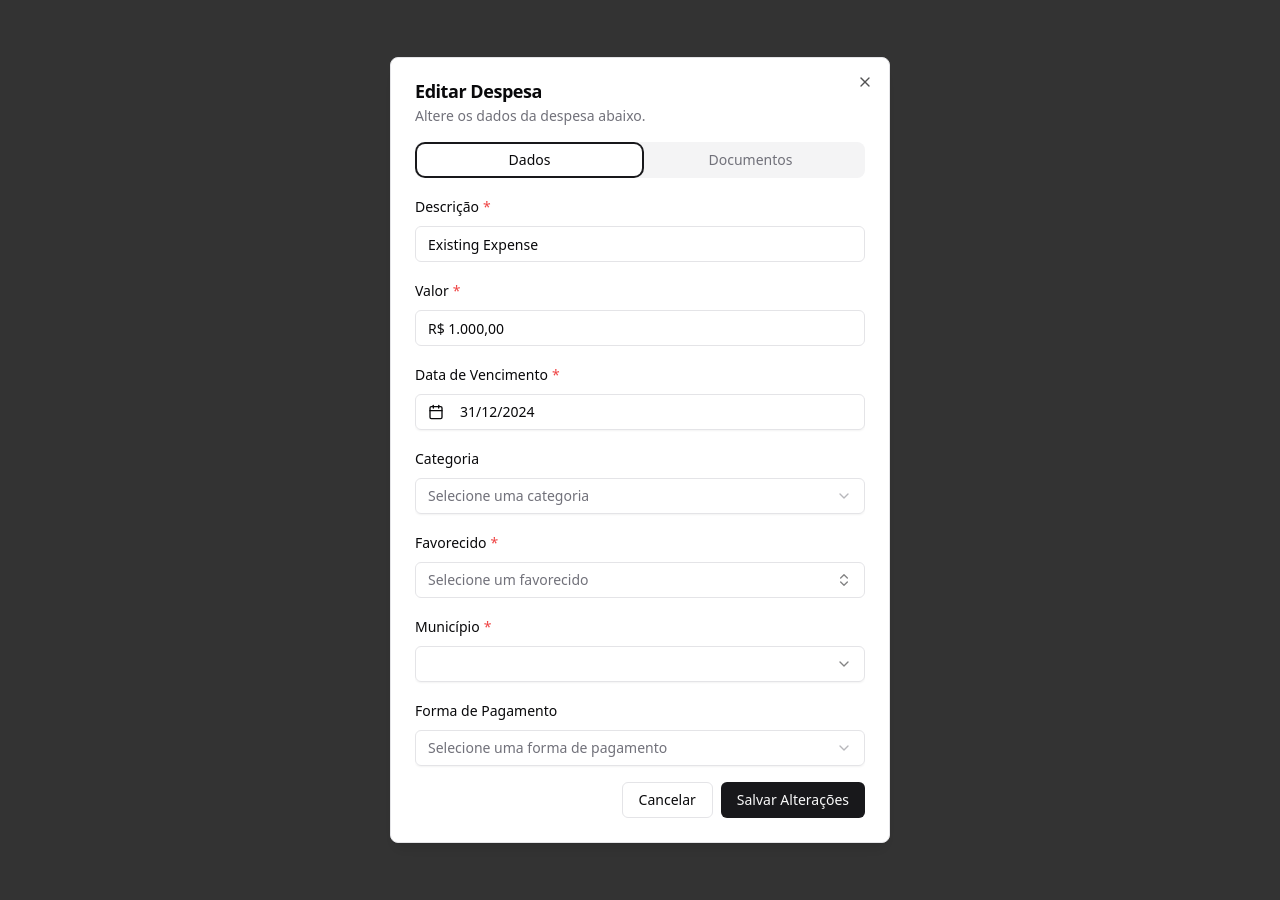
Scenario: Expense File Upload Integration › Existing file URLs in edit mode › should show both existing file previews when editing expense
Expected: the heading "Editar Despesa" is shown, x1=415 y1=79 x2=542 y2=103
Click the tab "Documentos".
click(750, 160)  # box x1=640 y1=146 x2=861 y2=174
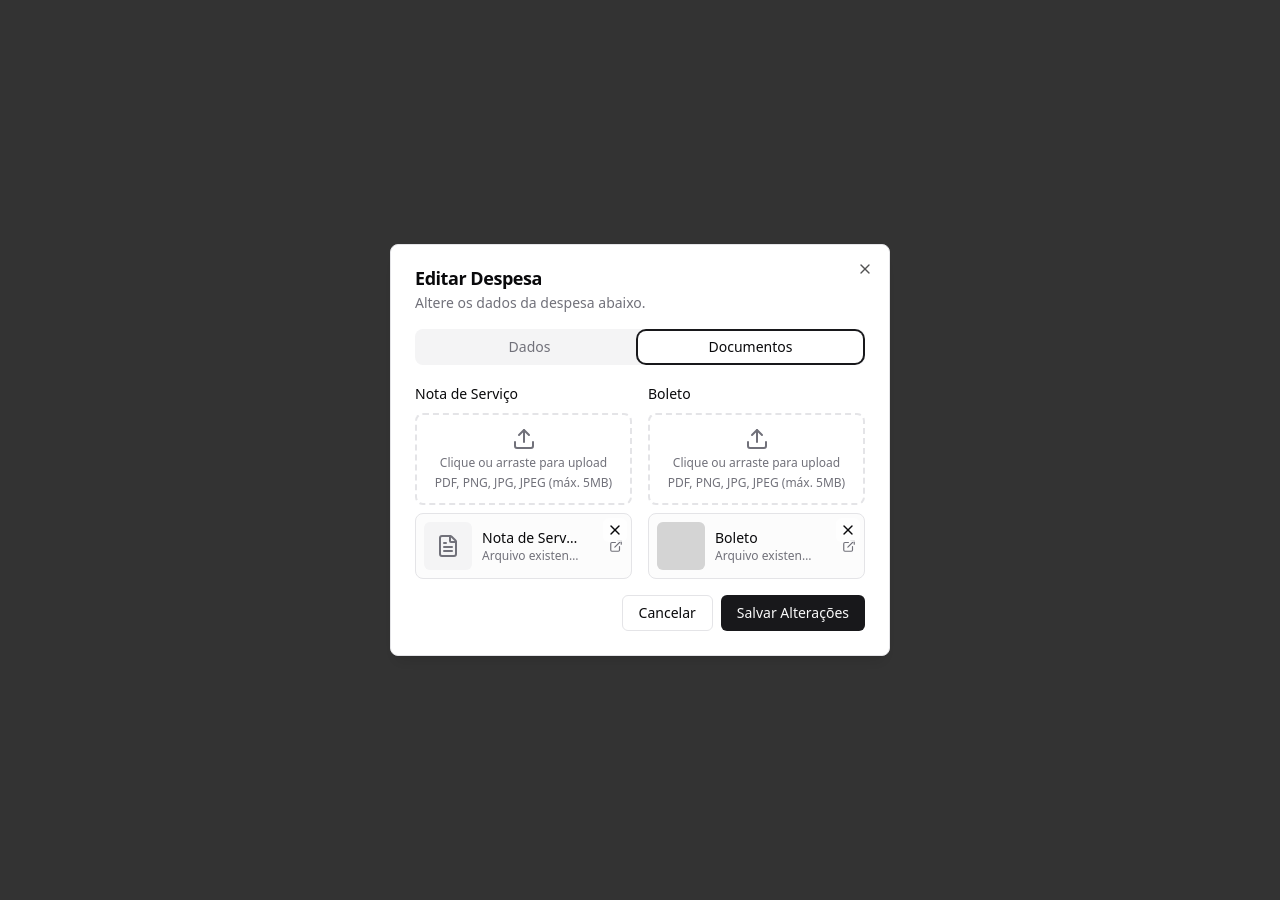
Result: the icon with test id "pdf-icon" is shown at x1=436 y1=534 x2=460 y2=558
Result: the number of elements with test id "file-name" is 2 at x1=482 y1=528 x2=579 y2=548; x1=715 y1=528 x2=758 y2=547
